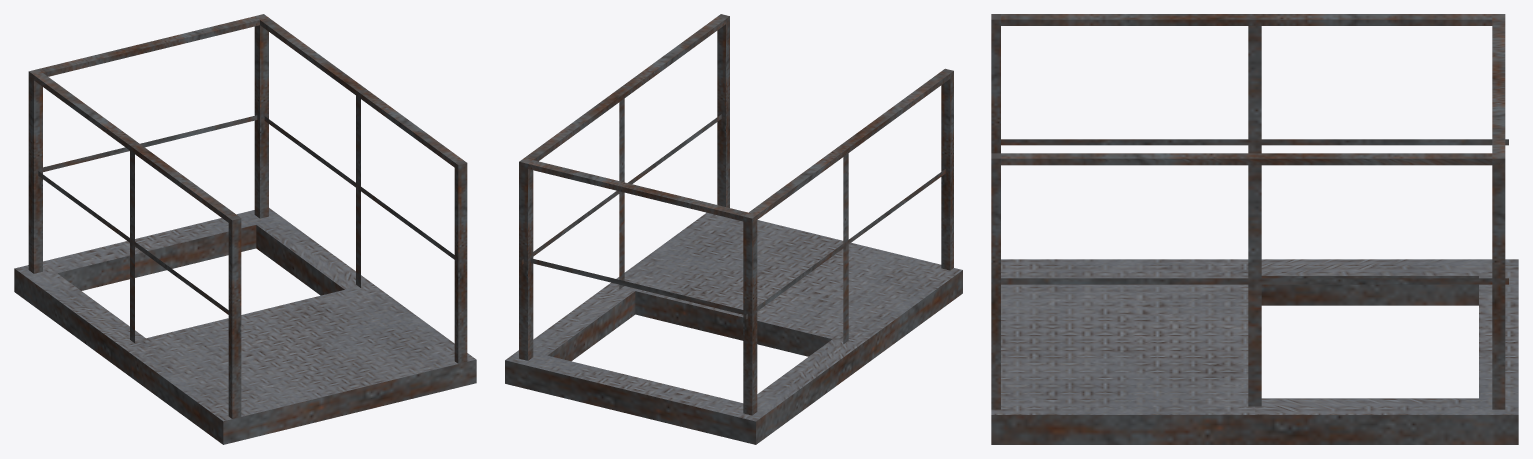
File: mMetalCatwalkFullEnd02.fbx
The picture shows the model from 3 angles, left to right: view 1: azimuth 30°, elevation 25°; view 2: azimuth 150°, elevation 25°; view 3: azimuth 270°, elevation 25°; orthographic projection. The views are drawn at different scales.
Visible parts, largest first — view 1: MetalCatwalkFullEnd02; view 2: MetalCatwalkFullEnd02; view 3: MetalCatwalkFullEnd02.
Part boxes in pixels (bbox=[...]): MetalCatwalkFullEnd02: bbox=[14, 14, 476, 444]; MetalCatwalkFullEnd02: bbox=[505, 14, 962, 444]; MetalCatwalkFullEnd02: bbox=[991, 14, 1518, 444].
Size of the model in its own units: 280 by 235 by 400.
